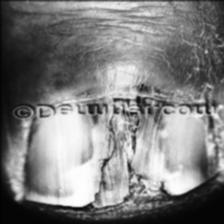Toxin: (22, 86, 214, 206)
